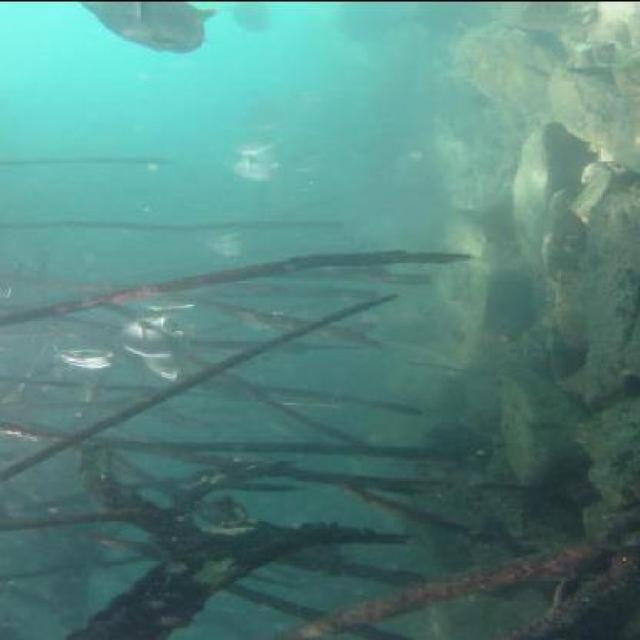Caranx_sexfasciatus_juvenile: (62, 0, 205, 55), (99, 296, 198, 358), (227, 103, 295, 159), (40, 342, 132, 375), (144, 333, 198, 385), (213, 149, 284, 188), (282, 149, 346, 182), (222, 0, 281, 29), (193, 236, 267, 258)
